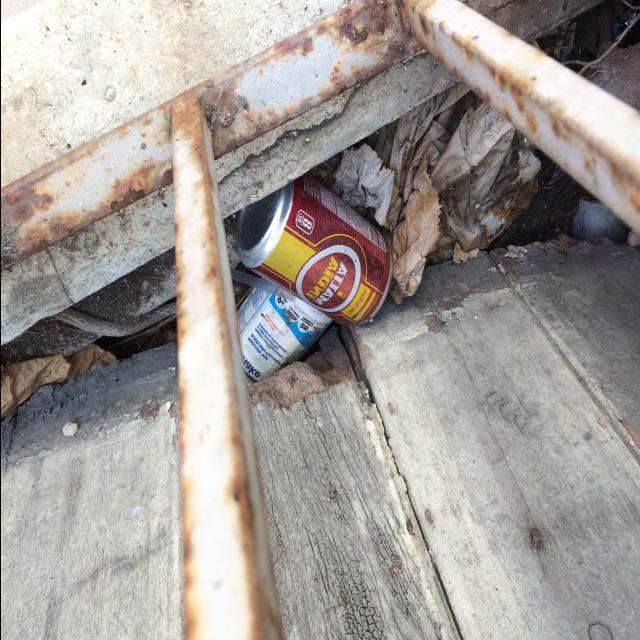Drink can: (236, 174, 392, 325)
Other plastic container: (235, 289, 331, 386)
Paper bag: (332, 82, 475, 305), (429, 101, 540, 253), (0, 343, 115, 418)
Plastic straw: (229, 267, 295, 302)
